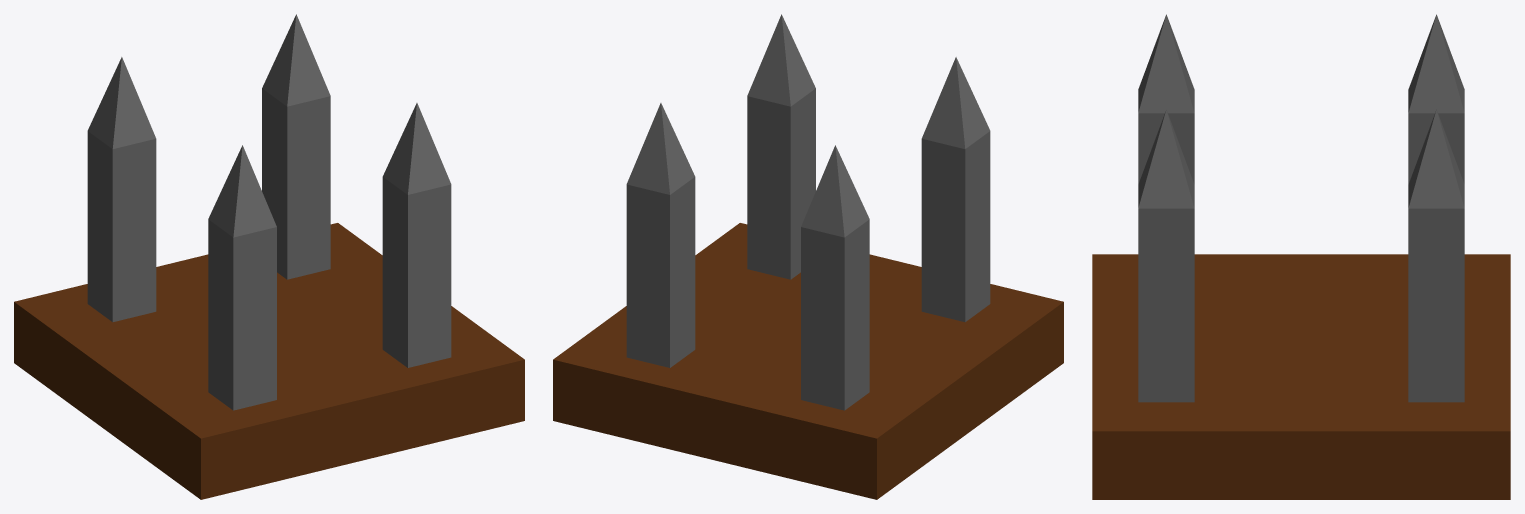
Rendered from v02_spine.fbx.
3 renders of one model, left to right at view 1: azimuth 30°, elevation 25°; view 2: azimuth 150°, elevation 25°; view 3: azimuth 270°, elevation 25°, orthographic. The views are drawn at different scales.
Visible parts, largest first — view 1: 立方体; view 2: 立方体; view 3: 立方体.
Part boxes in pixels (left/top/right/bottom): 立方体: left=14, top=14, right=524, bottom=499; 立方体: left=553, top=14, right=1063, bottom=499; 立方体: left=1092, top=14, right=1510, bottom=499.
Size of the model in its own units: 200 by 184 by 200.
